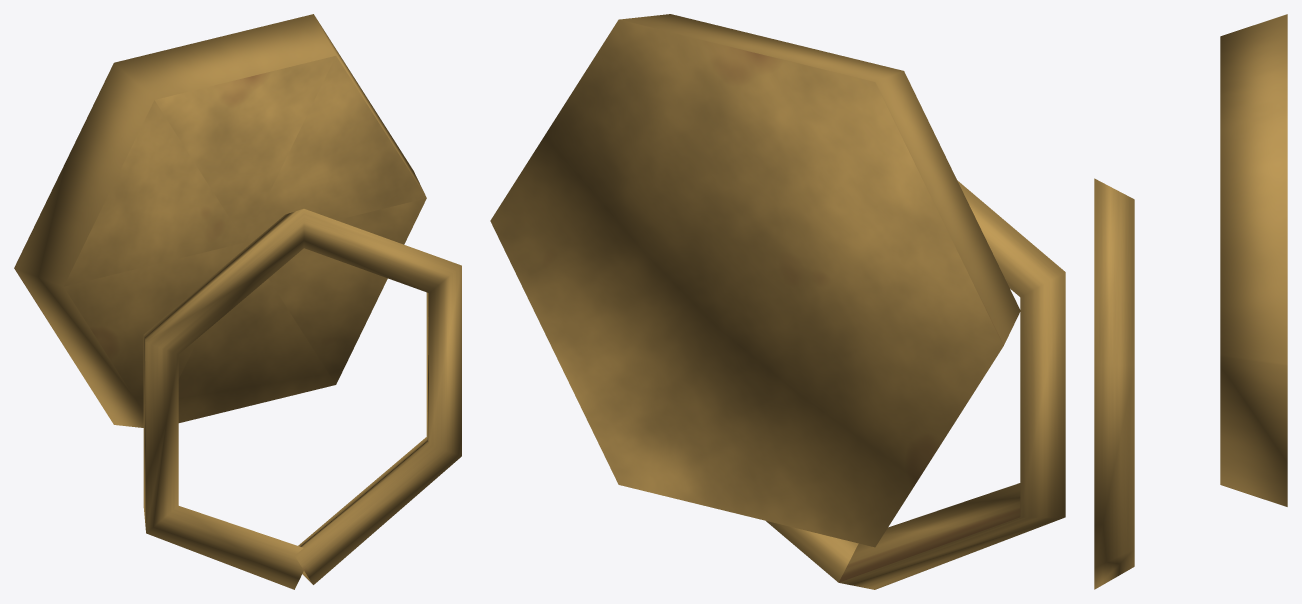
File: DoorKnocker_1_LOD2.gltf
The picture shows the model from 3 angles, left to right: view 1: azimuth 30°, elevation 25°; view 2: azimuth 150°, elevation 25°; view 3: azimuth 270°, elevation 25°; orthographic projection. The views are drawn at different scales.
Visible parts, largest first — view 1: DoorKnocker_1_LOD2; view 2: DoorKnocker_1_LOD2; view 3: DoorKnocker_1_LOD2.
Part boxes in pixels (box(x1,y1,x2,y2)): DoorKnocker_1_LOD2: box(14, 14, 461, 589); DoorKnocker_1_LOD2: box(490, 14, 1065, 589); DoorKnocker_1_LOD2: box(1094, 14, 1287, 589).
Size of the model in its own units: 0.22 by 0.2543 by 0.086.
Materials: 1 (1 with a texture image).
